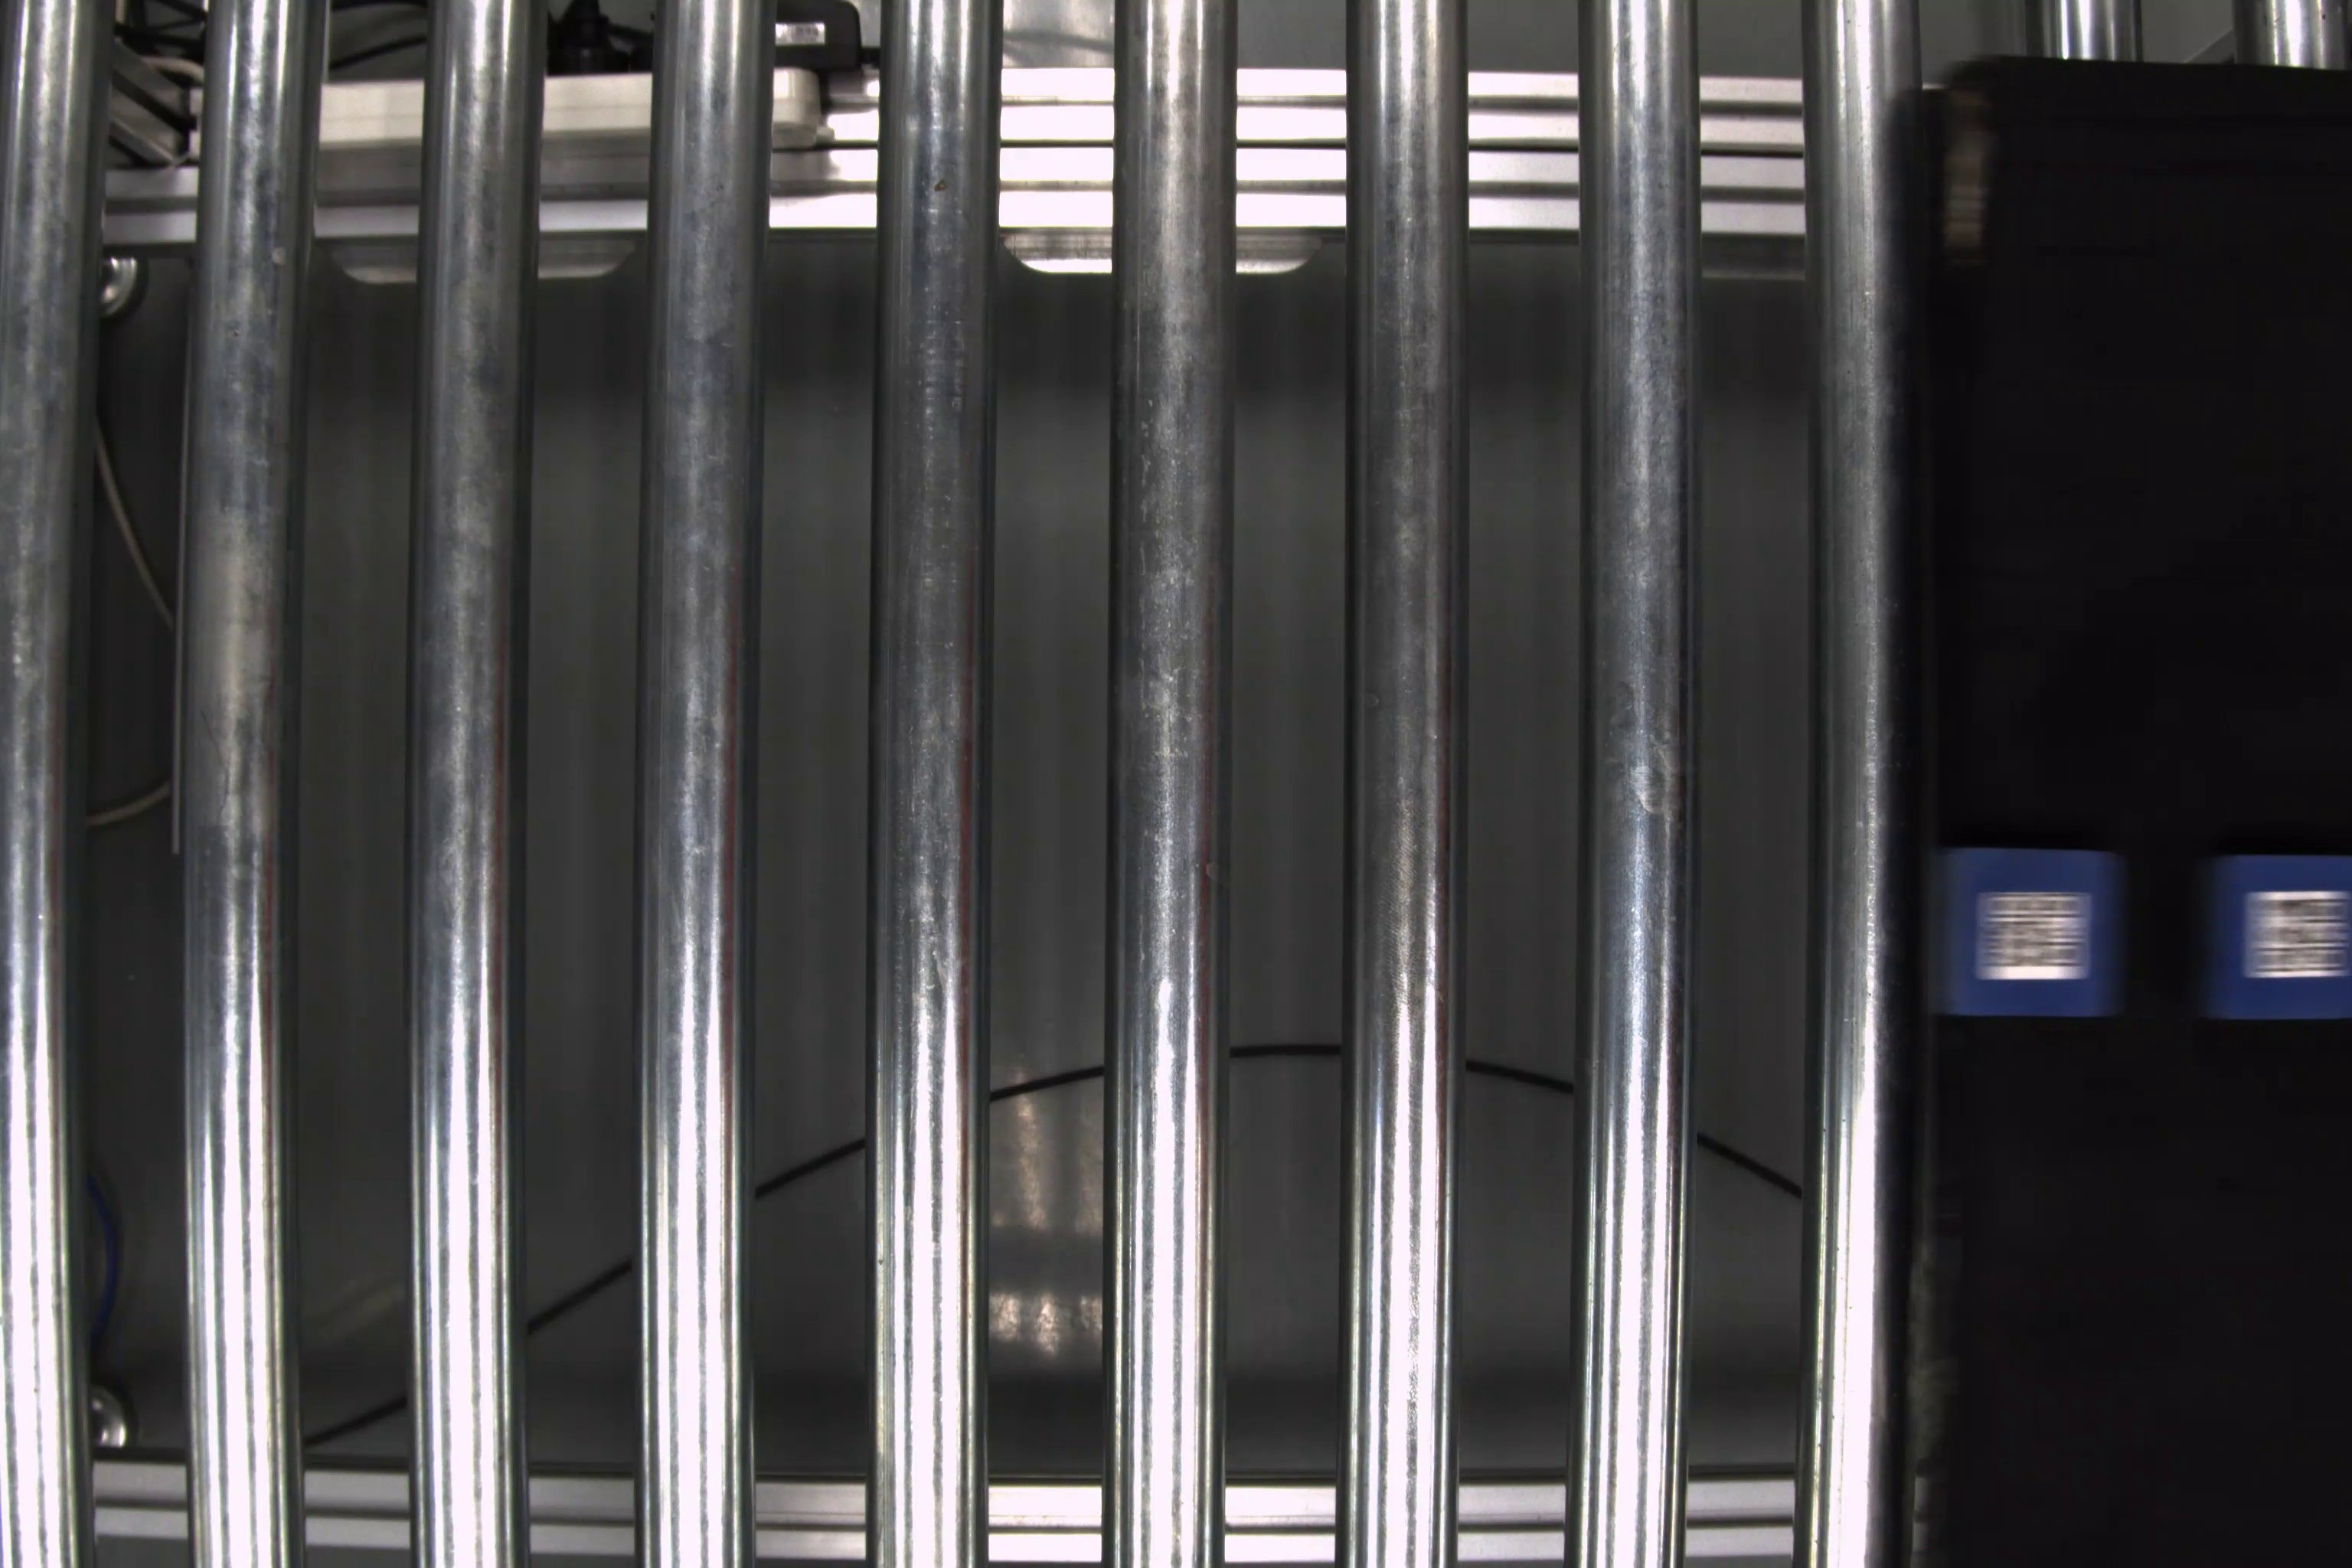wood: (1932, 845, 2131, 1022), (2194, 849, 2348, 1022)
